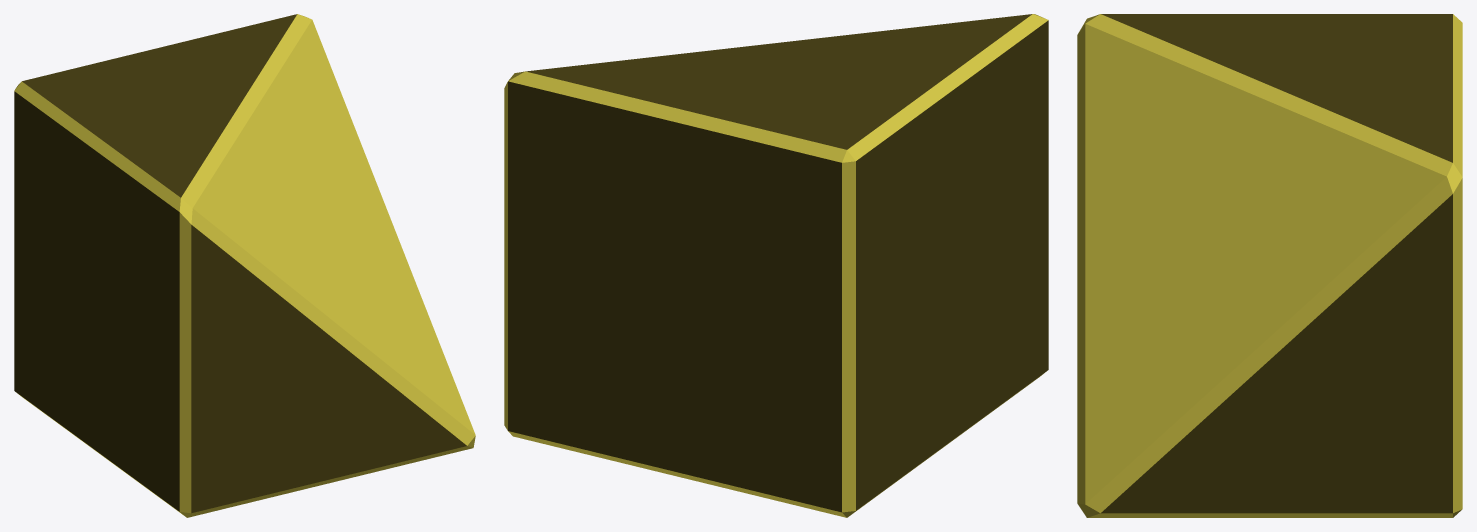
Rendered from neugol2.fbx.
3 views of the same model, side by side, from view 1: azimuth 30°, elevation 25°; view 2: azimuth 150°, elevation 25°; view 3: azimuth 270°, elevation 25° (orthographic). The views are drawn at different scales.
Visible parts, largest first — view 1: Cube; view 2: Cube; view 3: Cube.
Boxes of the visible parts, x1,y1,x2,y2 form: Cube: (14,14,475,517); Cube: (504,14,1048,517); Cube: (1077,14,1462,517).
Size of the model in its own units: 2 by 2 by 2.
